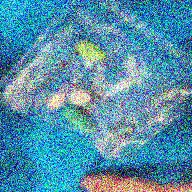러키펜정: (69, 89, 91, 106)
씨엠지세파클러캡슐: (46, 82, 76, 110)
에르도캡슐: (62, 106, 94, 135)
휴티렌정: (75, 42, 107, 62)
